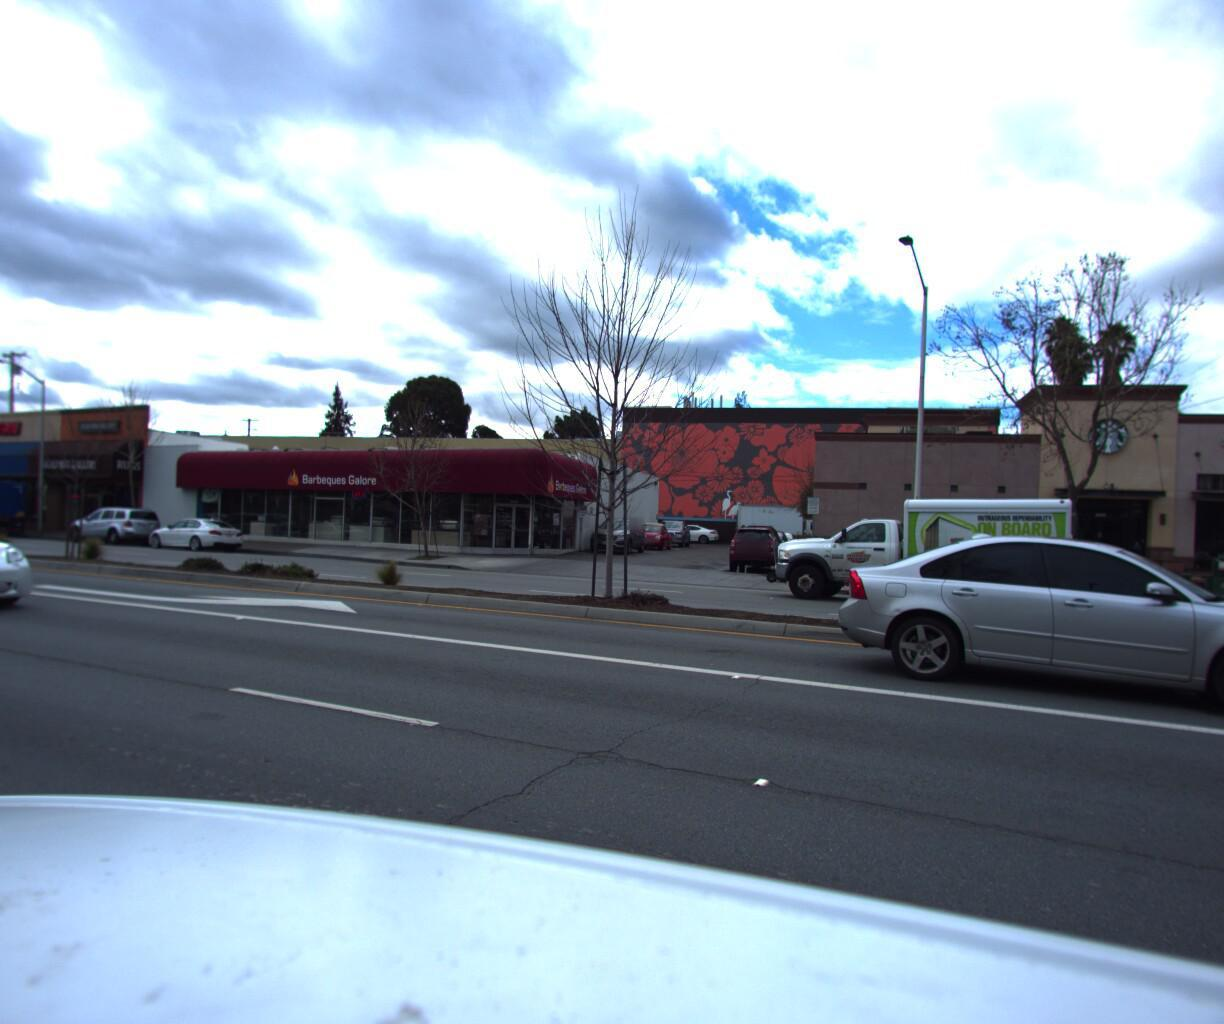car: (815, 519, 1224, 736), (0, 497, 52, 627), (62, 499, 170, 539), (143, 507, 249, 546), (725, 517, 788, 566)
truck: (746, 487, 1075, 616), (0, 475, 32, 531)
